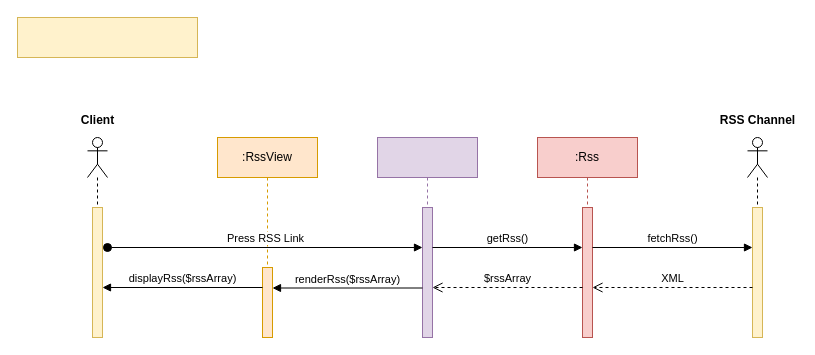
The diagram is 815 pixels wide and 355 high, and some of its shapes have lost their labels. The centre of each missing label's shape, as x and y in pixels:
":RssController" goes at point 427,237.
"RSS" goes at point 107,37.
